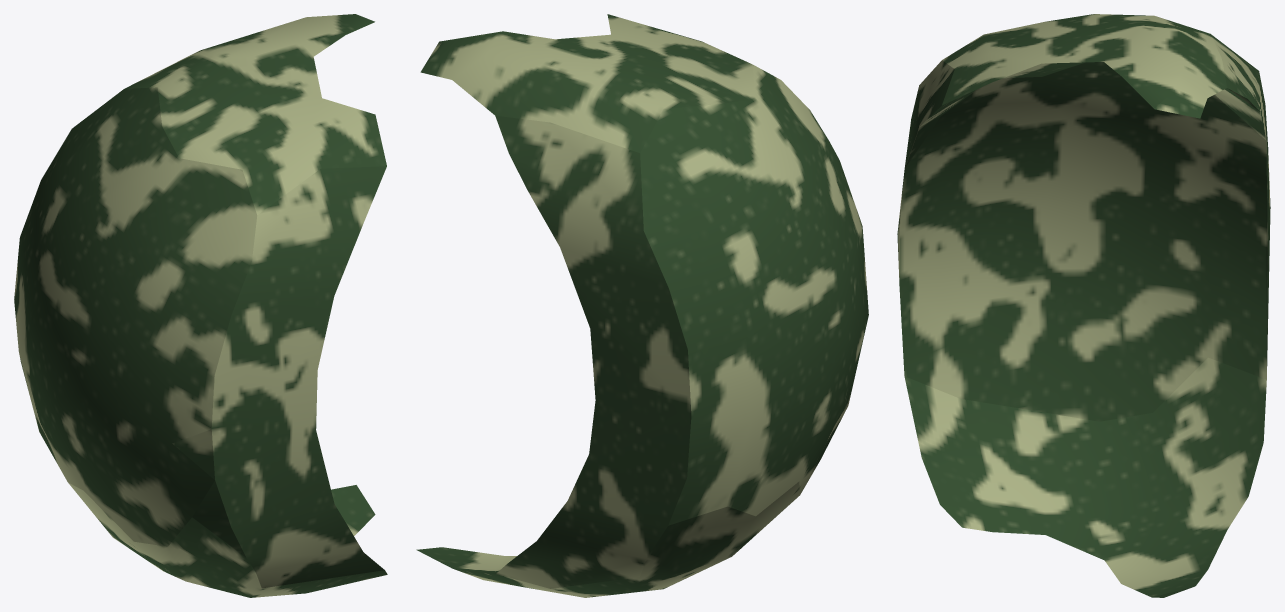
Rendered from link_body_06_composite.obj.
3 views of the same model, side by side, from view 1: azimuth 30°, elevation 25°; view 2: azimuth 150°, elevation 25°; view 3: azimuth 270°, elevation 25° (orthographic). The views are drawn at different scales.
Visible parts, largest first — view 1: link_body_06; view 2: link_body_06; view 3: link_body_06.
Part boxes in pixels (x1,y1,x2,y2): link_body_06: [14, 14, 387, 597]; link_body_06: [416, 14, 868, 597]; link_body_06: [897, 14, 1270, 597].
Size of the model in its own units: 15.16 by 21.29 by 14.2.
Materials: 1 (1 with a texture image).
